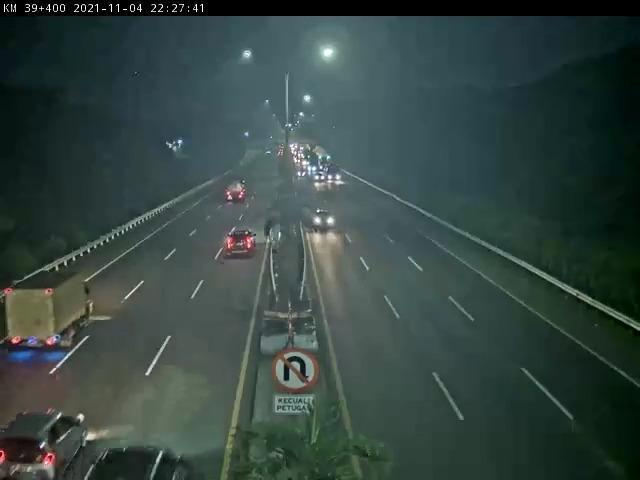car: (225, 227, 258, 260), (315, 208, 340, 234)
truck: (7, 269, 96, 353), (228, 179, 251, 204)
